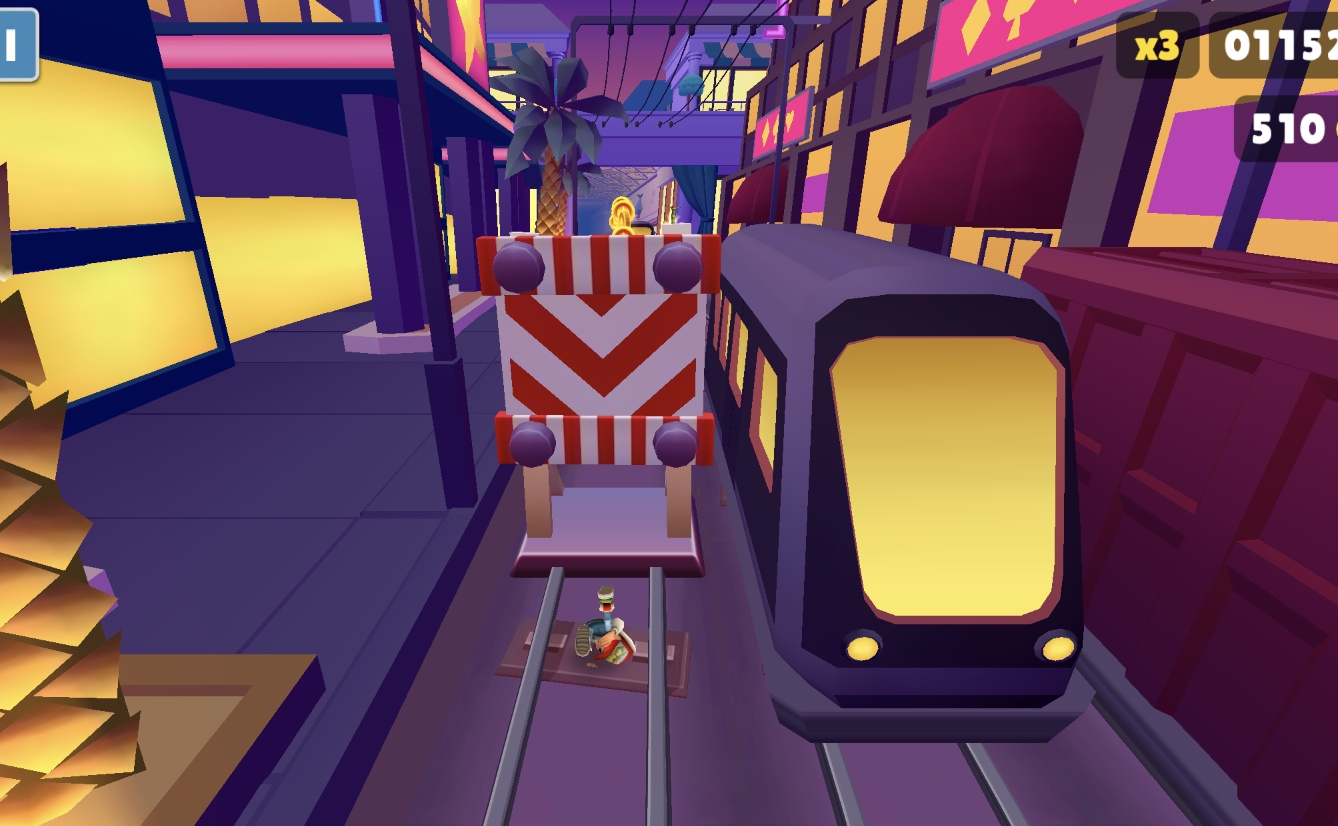overhead_barrier: (489, 207, 714, 581)
train: (971, 245, 1338, 826), (704, 230, 1101, 746)
